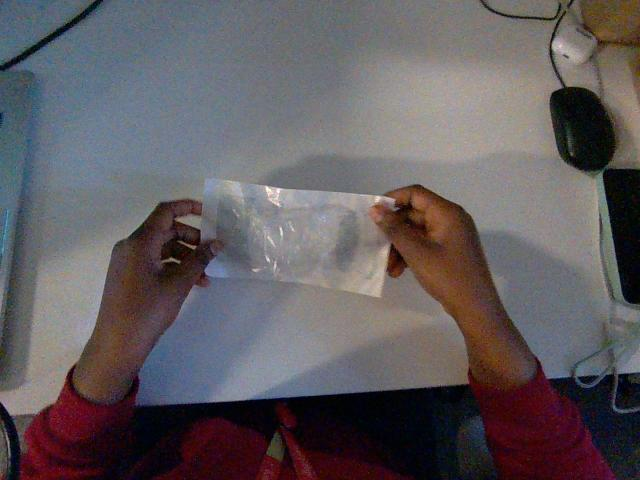gallipot: (201, 179, 393, 296)
